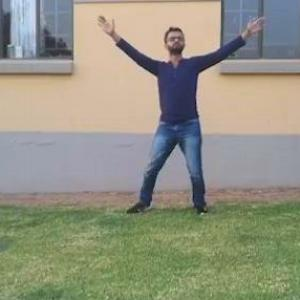takeoff: (78, 11, 256, 239)
